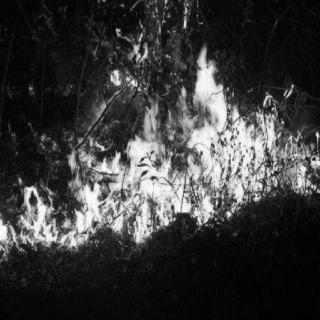Fire: (6, 0, 316, 252)
